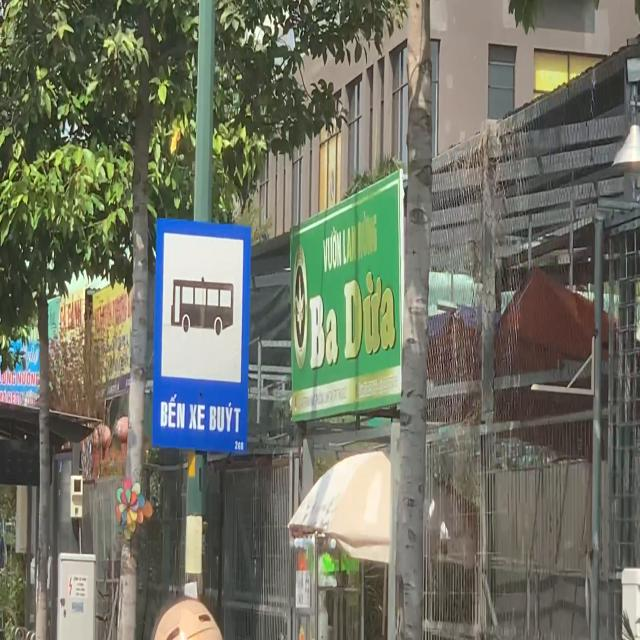Ben xe buyt: (153, 212, 250, 454)
